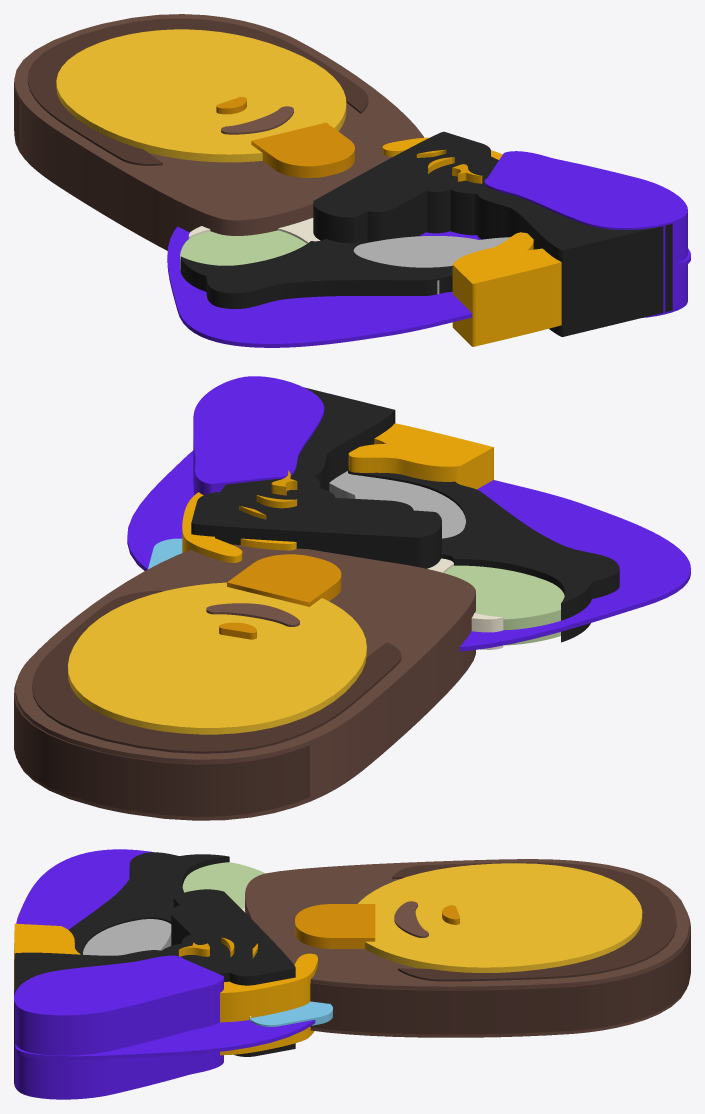
The model's file is emoji_u1f469_200d_1f37c.glb.
3 renders of one model, top to bottom at view 1: azimuth 30°, elevation 25°; view 2: azimuth 150°, elevation 25°; view 3: azimuth 270°, elevation 25°, orthographic. The views are drawn at different scales.
Visible parts, largest first — view 1: emoji_u1f469_200d_1f37c; view 2: emoji_u1f469_200d_1f37c; view 3: emoji_u1f469_200d_1f37c.
Boxes of the visible parts, <box> form: emoji_u1f469_200d_1f37c: <box>14,14,690,347</box>; emoji_u1f469_200d_1f37c: <box>14,376,690,820</box>; emoji_u1f469_200d_1f37c: <box>14,849,690,1099</box>.
Size of the model in its own units: 0.0242 by 0.0052 by 0.0335.
